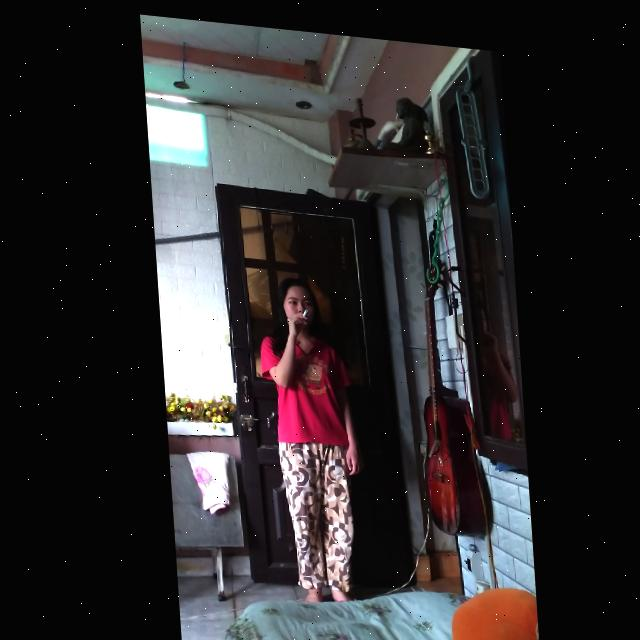cigarette: (298, 303, 304, 310)
